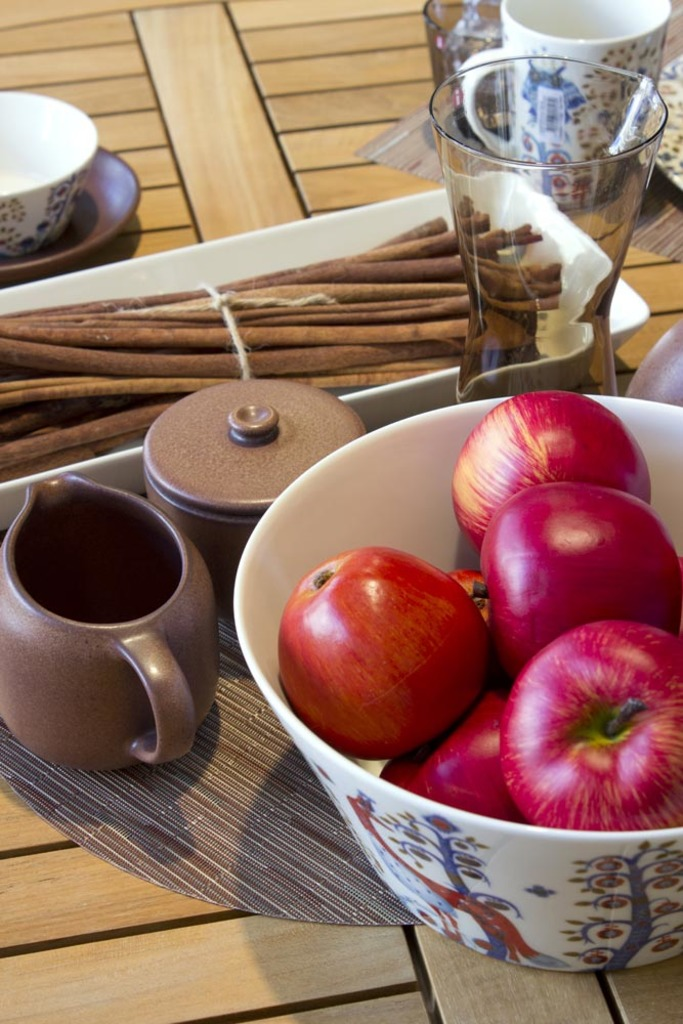Apple: (267, 389, 681, 840)
